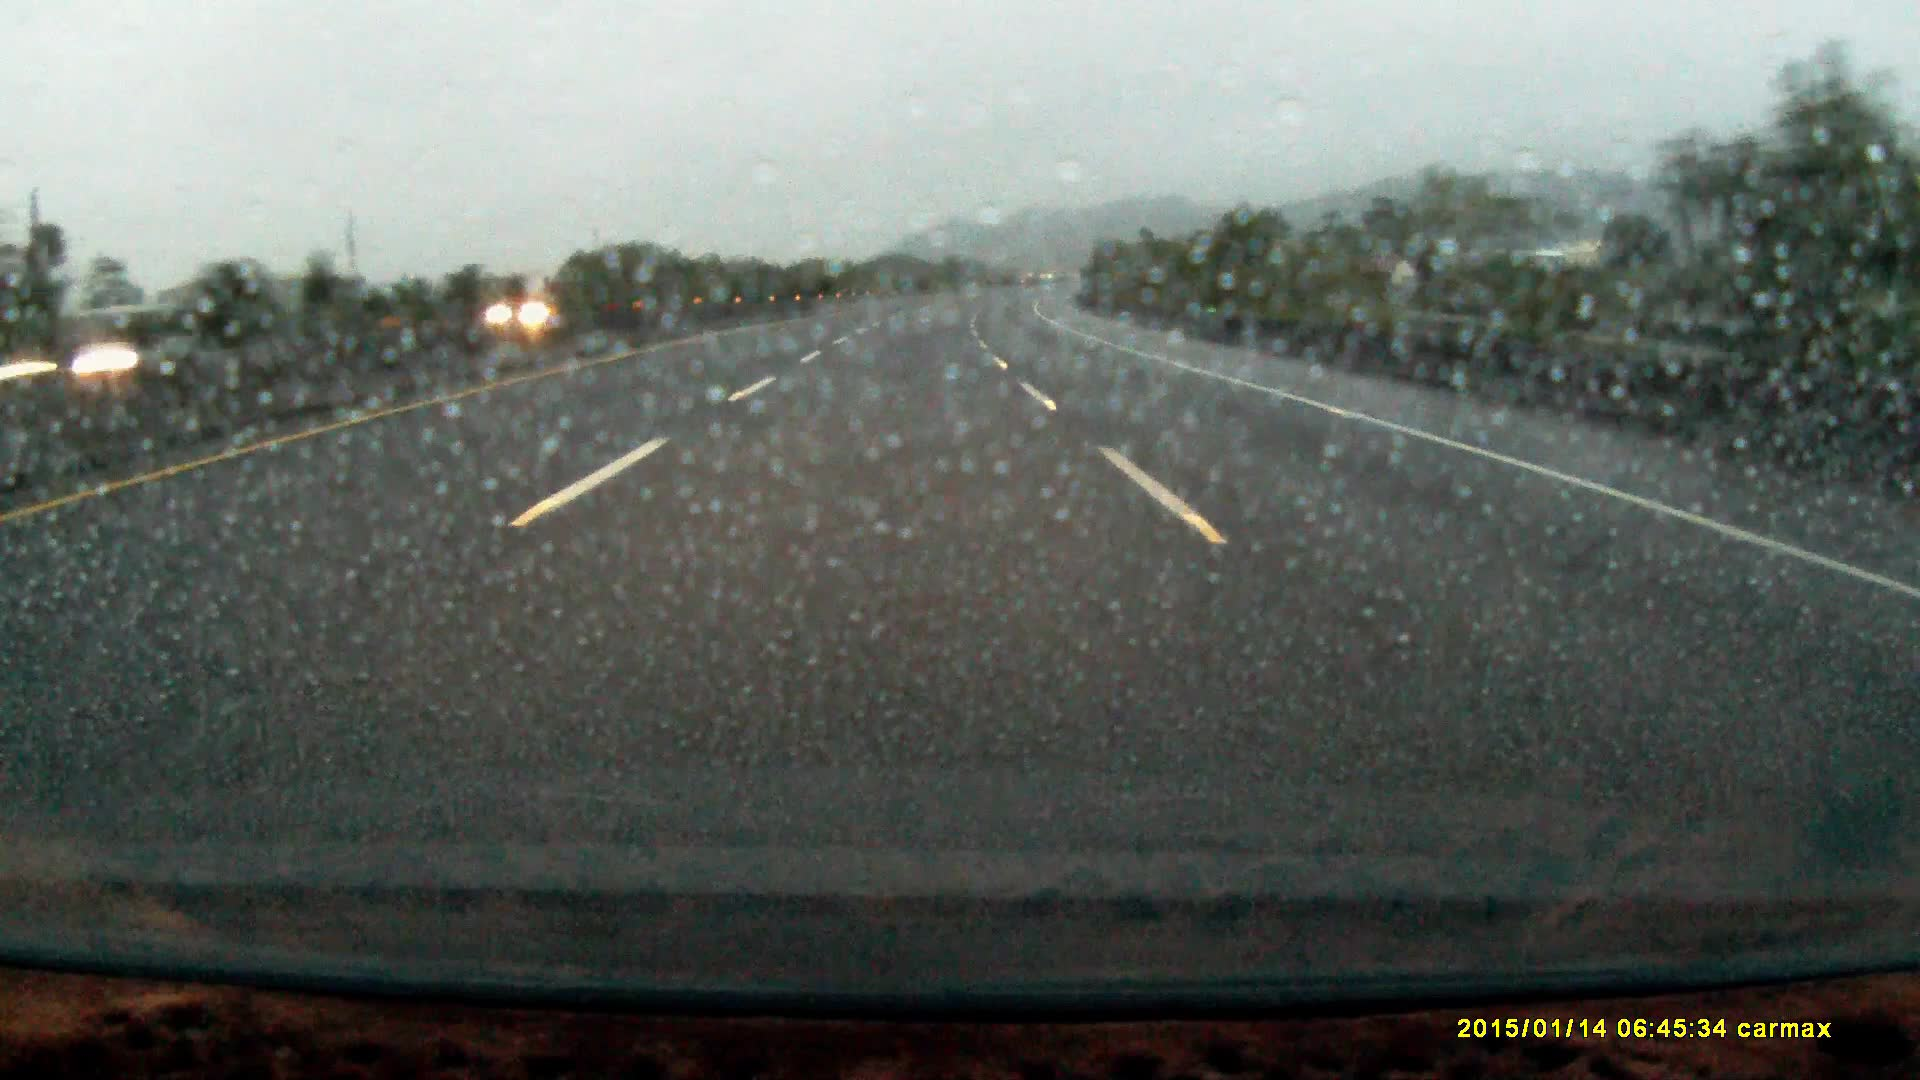vehicle: (1, 299, 229, 382), (485, 294, 568, 328)
